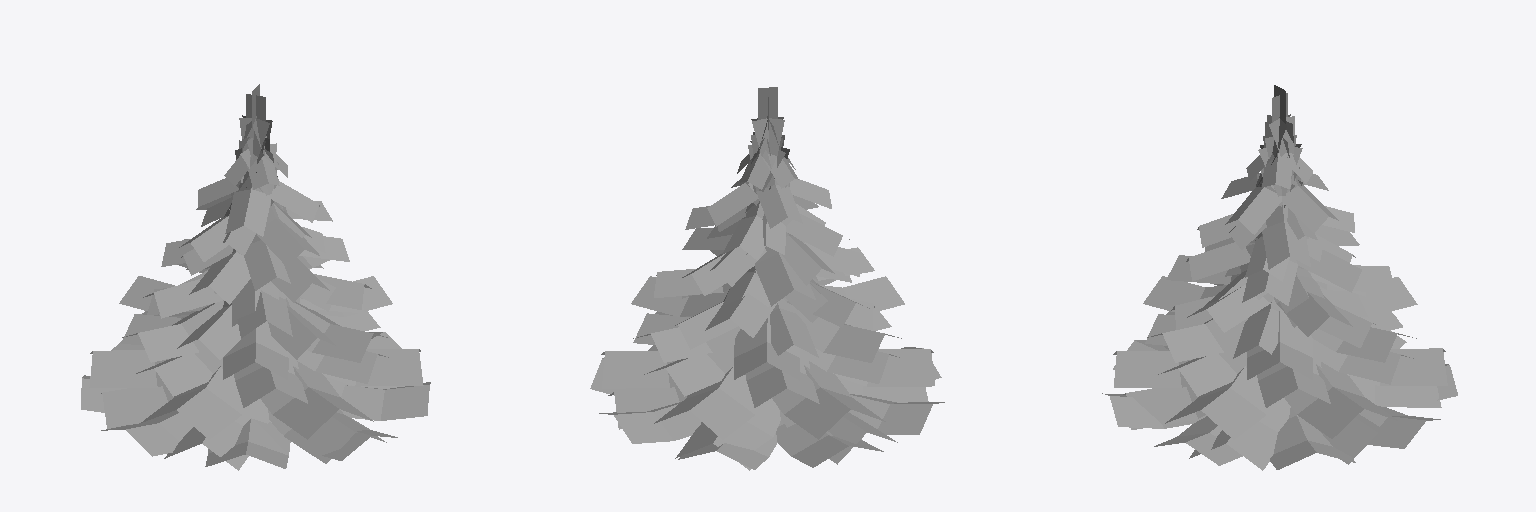
File: Pine_Snow_Half.obj
3 views of the same model, side by side, from view 1: azimuth 30°, elevation 25°; view 2: azimuth 150°, elevation 25°; view 3: azimuth 270°, elevation 25° (orthographic).
Visible parts, largest first — view 1: pine_tree; view 2: pine_tree; view 3: pine_tree.
Boxes of the visible parts, x1=… form: pine_tree: x1=81, y1=84, x2=430, y2=470; pine_tree: x1=590, y1=87, x2=944, y2=470; pine_tree: x1=1102, y1=85, x2=1457, y2=470.
Size of the model in its own units: 14.4 by 15 by 14.4.